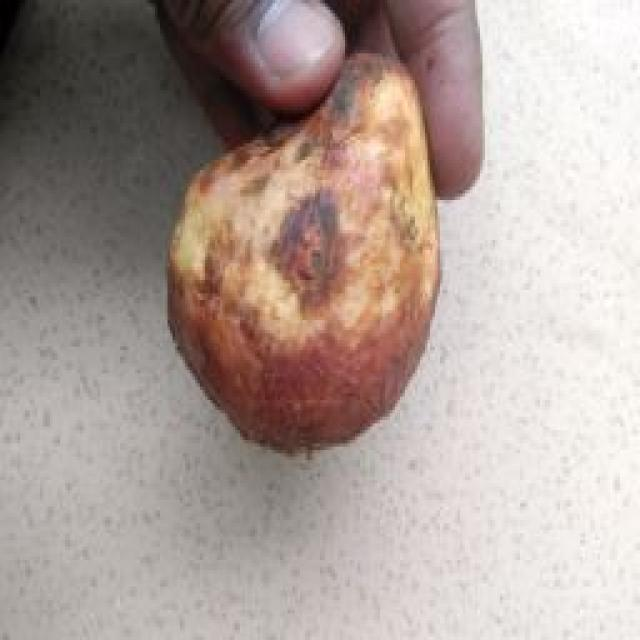Bad_Guava: (169, 55, 439, 449)
